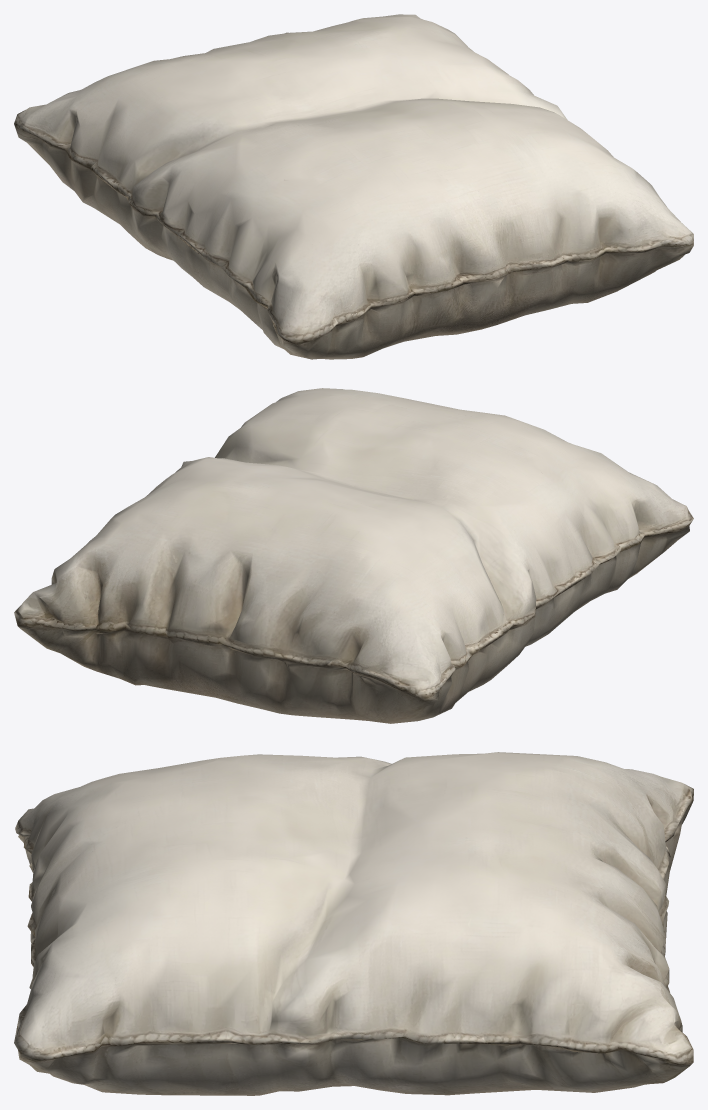
File: pillow+3d+model.glb
3 views of the same model, one above another, from view 1: azimuth 30°, elevation 25°; view 2: azimuth 150°, elevation 25°; view 3: azimuth 270°, elevation 25° (orthographic). The views are drawn at different scales.
Visible parts, largest first — view 1: tripo_node_1e4be399-cac7-4365-a047-1261fb05ae8d; view 2: tripo_node_1e4be399-cac7-4365-a047-1261fb05ae8d; view 3: tripo_node_1e4be399-cac7-4365-a047-1261fb05ae8d.
Boxes of the visible parts, x1,y1,x2,y2 form: tripo_node_1e4be399-cac7-4365-a047-1261fb05ae8d: (14, 14, 693, 359); tripo_node_1e4be399-cac7-4365-a047-1261fb05ae8d: (14, 388, 693, 723); tripo_node_1e4be399-cac7-4365-a047-1261fb05ae8d: (14, 752, 693, 1095).
Bounding box in the file's own units: 0.866 × 0.3591 × 1.
1 material, 1 textured.
